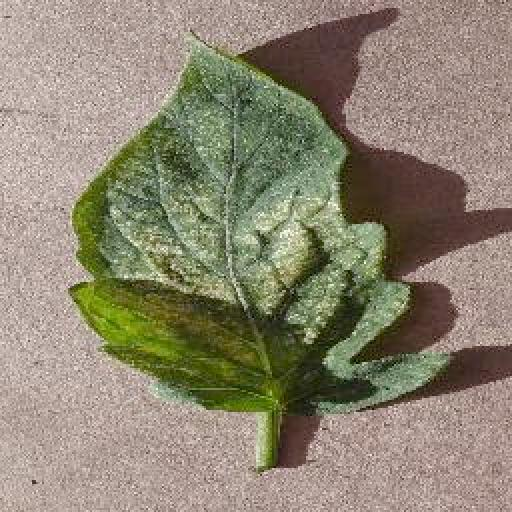disease_tomato: (68, 34, 454, 416)
